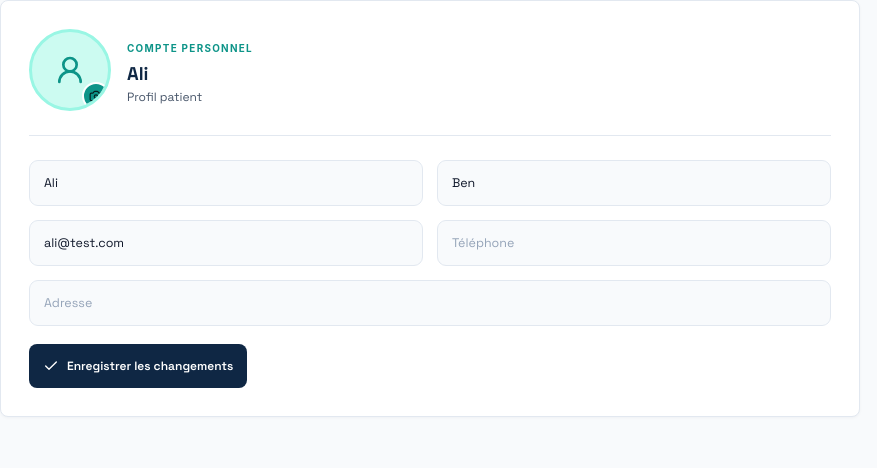
Test: shows API errors when saving fails
This screenshot has width=877, height=468.
Click the button "Enregistrer les changements" at coordinates (138, 366), box x1=29 y1=344 x2=247 y2=388
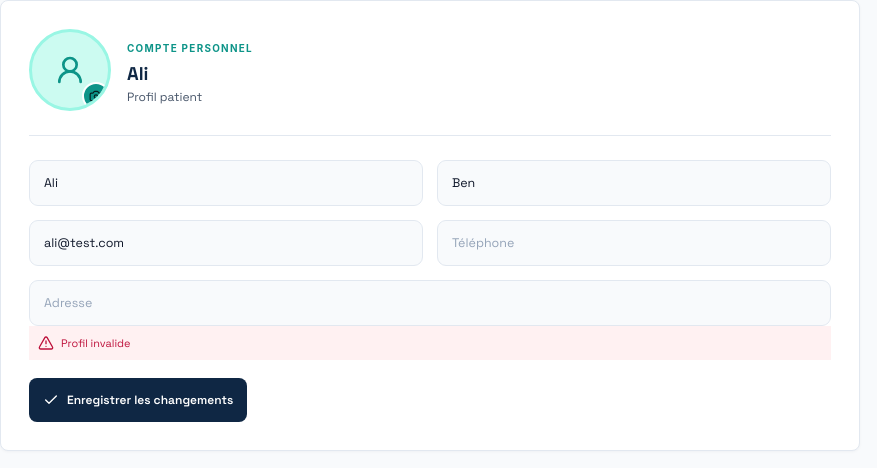
expect the text "Profil invalide" is shown: met, box x1=29 y1=326 x2=831 y2=360
